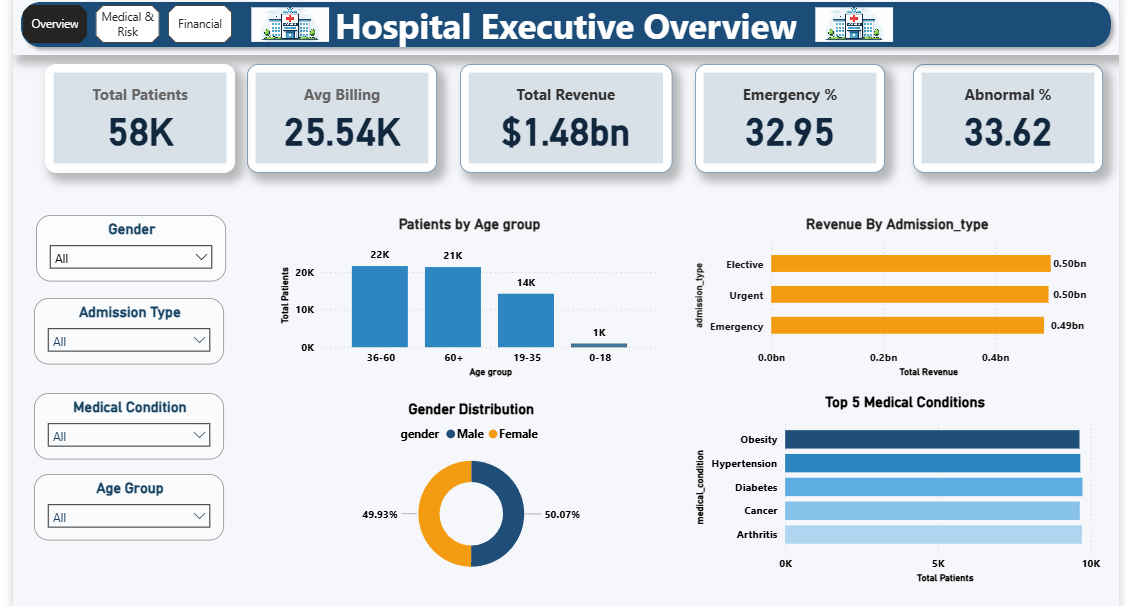

What the dashboard file says about the page in this screenshot:
{"tool":"powerbi","page":{"name":"Overview","canvas":[1280,720],"ordinal":0},"visuals":[{"type":"cardVisual","fields":{"Data":["hospital_db hospital_data.Abnormal %"]},"box":[1041.4,81.4,220,125.7],"z":0},{"type":"clusteredBarChart","title":"Revenue By Admission_type","fields":{"Category":["hospital_db hospital_data.admission_type"],"Y":["hospital_db hospital_data.Total Revenue"]},"box":[784,256,480,192],"z":1000},{"type":"clusteredColumnChart","title":"Patients by Age group","fields":{"Category":["hospital_db hospital_data.Age group"],"Y":["hospital_db hospital_data.Total Patients"]},"box":[304,256,448,192],"z":2000},{"type":"donutChart","title":"Gender Distribution","fields":{"Category":["hospital_db hospital_data.gender"],"Y":["hospital_db hospital_data.Total Patients"]},"box":[342.9,470,375.7,215.7],"z":3000},{"type":"barChart","title":"Top 5 Medical Conditions","fields":{"Category":["hospital_db hospital_data.medical_condition"],"Y":["hospital_db hospital_data.Total Patients"]},"box":[784.3,461.4,495.7,224.3],"z":4000},{"type":"shape","box":[0,0,1280,70.6],"z":6000},{"type":"cardVisual","fields":{"Data":["hospital_db hospital_data.Total Revenue"]},"box":[517.1,81.4,245.7,125.7],"z":7000},{"type":"cardVisual","fields":{"Data":["hospital_db hospital_data.Avg Billing"]},"box":[271.4,81.4,220,125.7],"z":8000},{"type":"cardVisual","fields":{"Data":["hospital_db hospital_data.Emergency %"]},"box":[790,81.4,220,125.7],"z":9000},{"type":"slicer","title":"Gender","fields":{"Values":["hospital_db hospital_data.gender"]},"box":[27.1,255.7,220,77.1],"z":11000},{"type":"cardVisual","fields":{"Data":["hospital_db hospital_data.Total Patients"]},"box":[37.1,81.4,220,125.7],"z":12000},{"type":"slicer","title":"Admission Type","fields":{"Values":["hospital_db hospital_data.admission_type"]},"box":[24.3,351.4,220,77.1],"z":14000},{"type":"slicer","title":"Medical Condition","fields":{"Values":["hospital_db hospital_data.medical_condition"]},"box":[24.3,461.4,220,77.1],"z":16000},{"type":"slicer","title":"Age Group","fields":{"Values":["hospital_db hospital_data.Age group"]},"box":[24.3,555.7,220,77.1],"z":18000},{"type":"pageNavigator","box":[11.4,12.9,244.3,44.3],"z":18001},{"type":"image","box":[924.3,10,100,50],"z":18002},{"type":"image","box":[271.4,10,100,50],"z":18003}]}

Visuals, with their boxes on the page's 1280x720 design canvas (x1, y1, x2, y2). These are canvas units, not pixel positions in the 1127x606 screenshot, which may show the page scaled, cropped or inside an application window:
cardVisual - hospital_db hospital_data.Abnormal %: bbox=[1041, 81, 1261, 207]
"Revenue By Admission_type" clusteredBarChart: bbox=[784, 256, 1264, 448]
"Patients by Age group" clusteredColumnChart: bbox=[304, 256, 752, 448]
"Gender Distribution" donutChart: bbox=[343, 470, 719, 686]
"Top 5 Medical Conditions" barChart: bbox=[784, 461, 1280, 686]
shape: bbox=[0, 0, 1280, 71]
cardVisual - hospital_db hospital_data.Total Revenue: bbox=[517, 81, 763, 207]
cardVisual - hospital_db hospital_data.Avg Billing: bbox=[271, 81, 491, 207]
cardVisual - hospital_db hospital_data.Emergency %: bbox=[790, 81, 1010, 207]
"Gender" slicer: bbox=[27, 256, 247, 333]
cardVisual - hospital_db hospital_data.Total Patients: bbox=[37, 81, 257, 207]
"Admission Type" slicer: bbox=[24, 351, 244, 428]
"Medical Condition" slicer: bbox=[24, 461, 244, 538]
"Age Group" slicer: bbox=[24, 556, 244, 633]
pageNavigator: bbox=[11, 13, 256, 57]
image: bbox=[924, 10, 1024, 60]
image: bbox=[271, 10, 371, 60]
